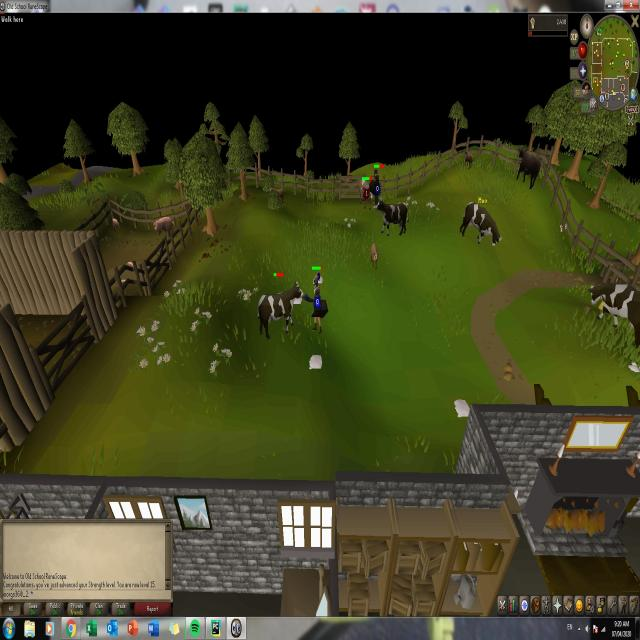cow: (257, 280, 305, 340), (460, 198, 503, 248), (373, 198, 410, 239), (514, 148, 541, 189), (358, 176, 369, 210), (368, 240, 379, 272), (462, 147, 474, 171)
player: (307, 272, 327, 337)
